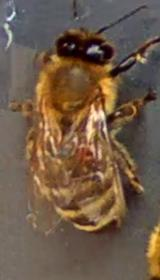varroa_mite: (70, 136, 105, 168)
